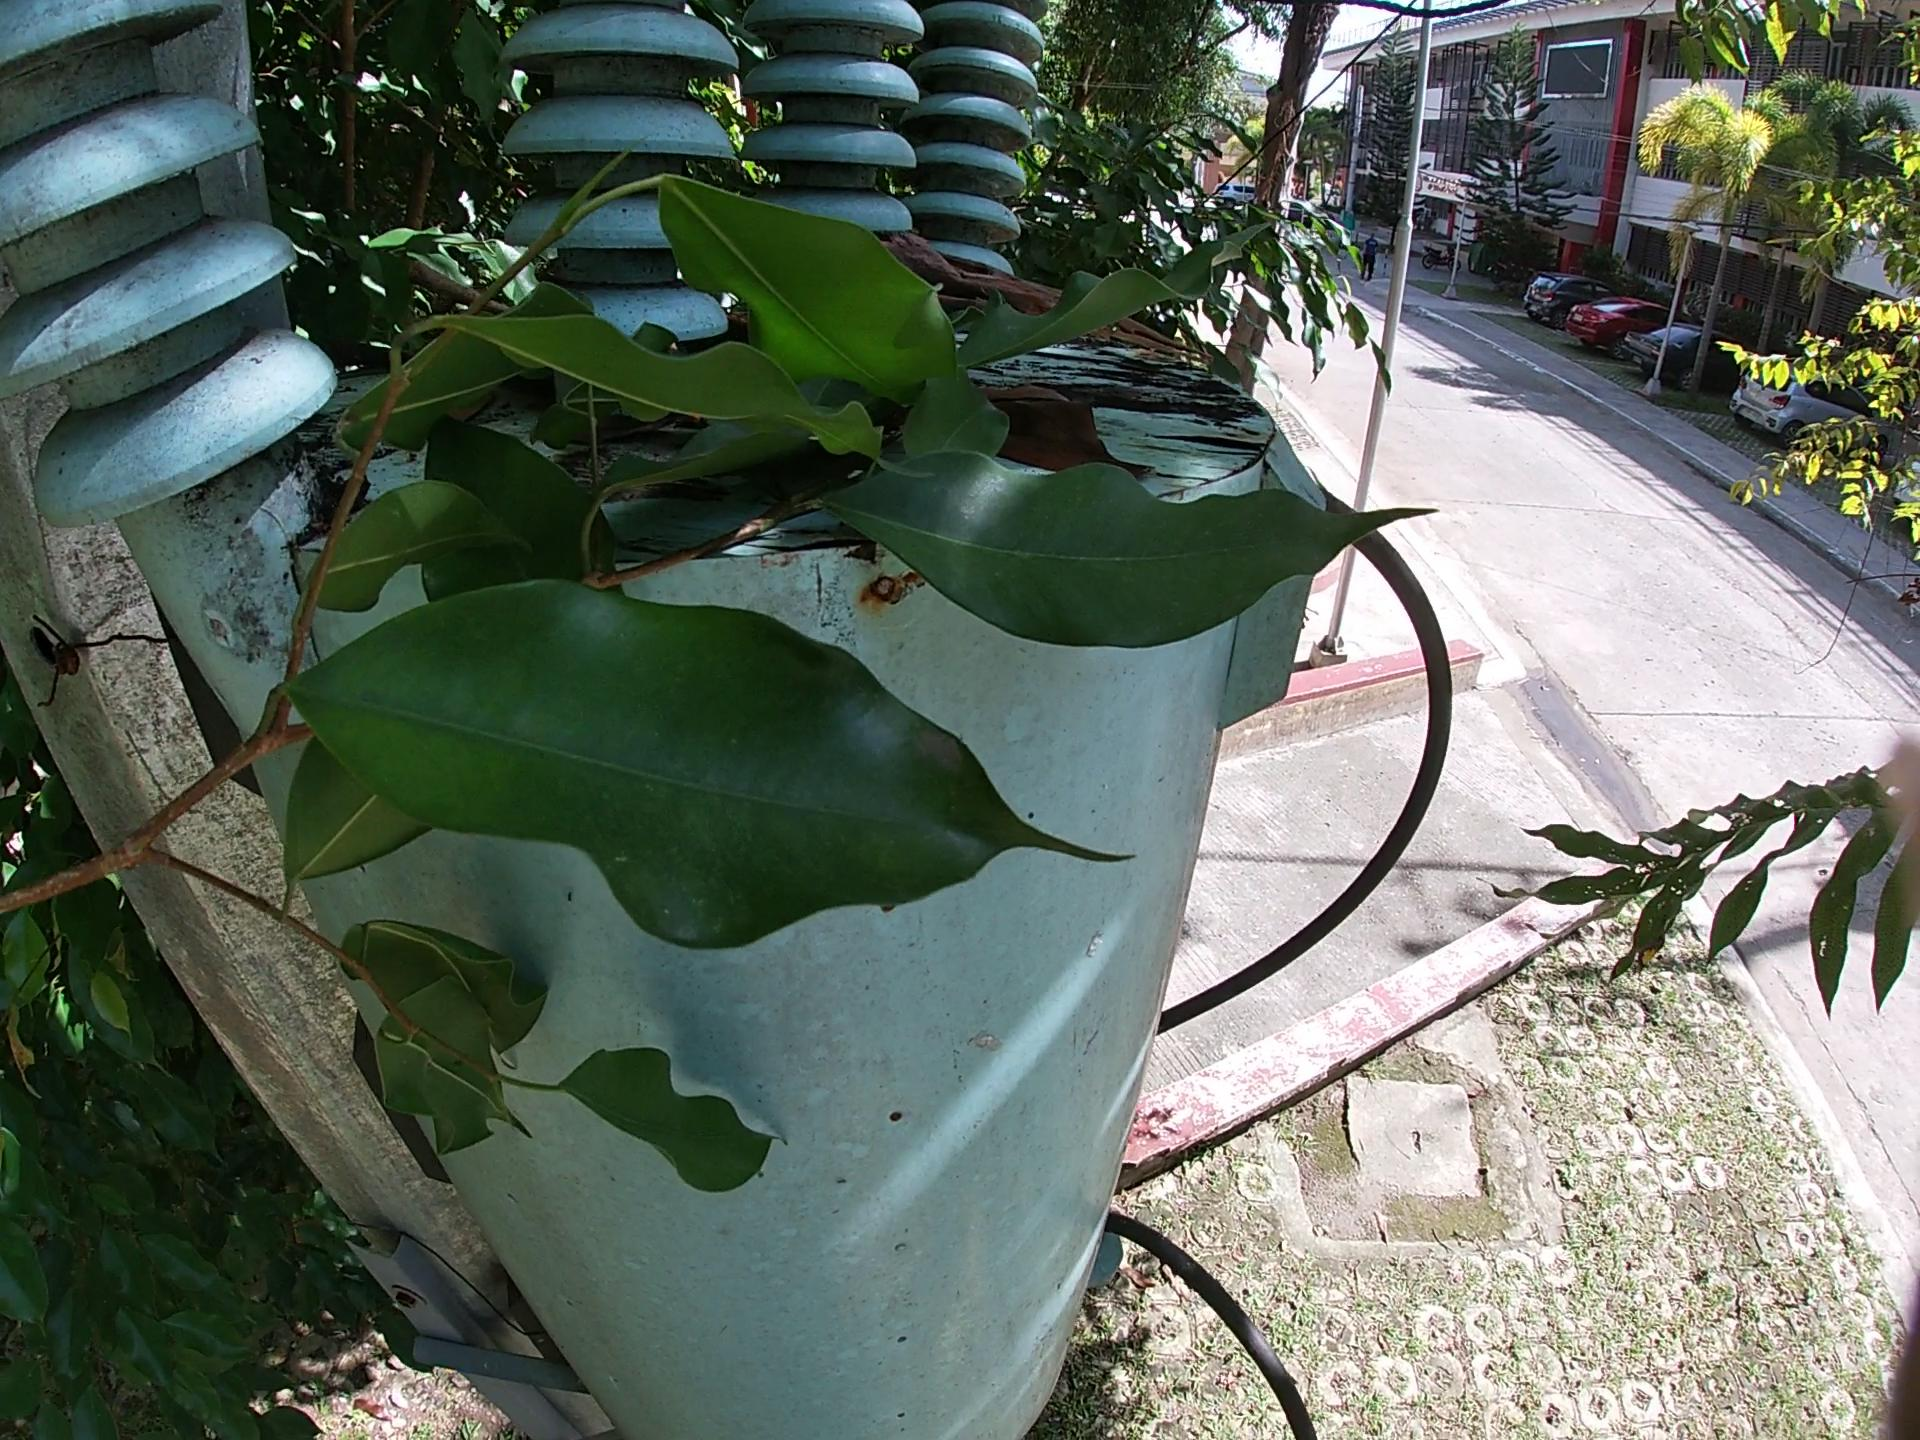branch with leaves: (2, 132, 1441, 1198)
leaf: (981, 387, 1163, 483)
tree branch: (881, 228, 1206, 371), (398, 259, 511, 318)
